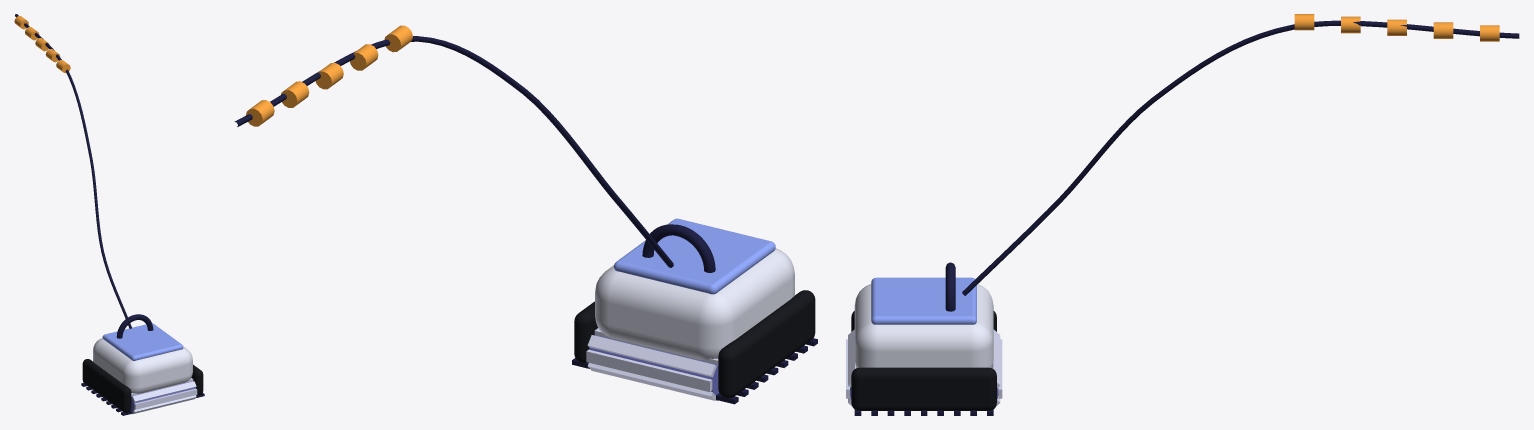
Rendered from poolCleaner.glb.
3 views of the same model, side by side, from view 1: azimuth 30°, elevation 25°; view 2: azimuth 150°, elevation 25°; view 3: azimuth 270°, elevation 25° (orthographic). The views are drawn at different scales.
Visible parts, largest first — view 1: body, lid, trackR, brushF, cable, handle, trackL; view 2: body, lid, trackR, brushB, cable, handle, trackL; view 3: body, trackL, lid, cable.
Part boxes in pixels (x1,y1,x2,y2): body: (93,338,192,393); lid: (102,323,183,360); trackR: (81,359,132,415); brushF: (131,378,197,414); cable: (15,14,131,328); handle: (116,314,153,338); trackL: (191,364,204,397); body: (595,248,794,359); lid: (614,218,775,294); trackR: (716,290,817,404); brushB: (586,328,719,400); cable: (234,36,673,267); handle: (642,224,715,272); trackL: (572,301,597,368); body: (854,284,993,368); trackL: (851,367,996,415); lid: (871,277,976,324); cable: (962,20,1519,295).
Size of the model in its own units: 0.5453 by 1.33 by 2.04.
